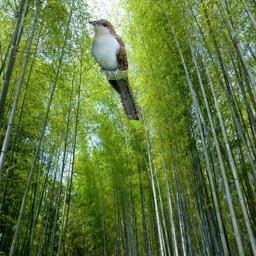Cuckoo: (88, 19, 144, 128)
